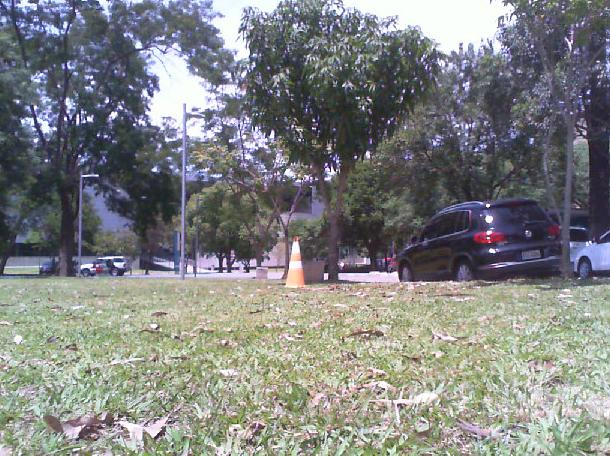0 cone: (284, 236, 310, 289)
